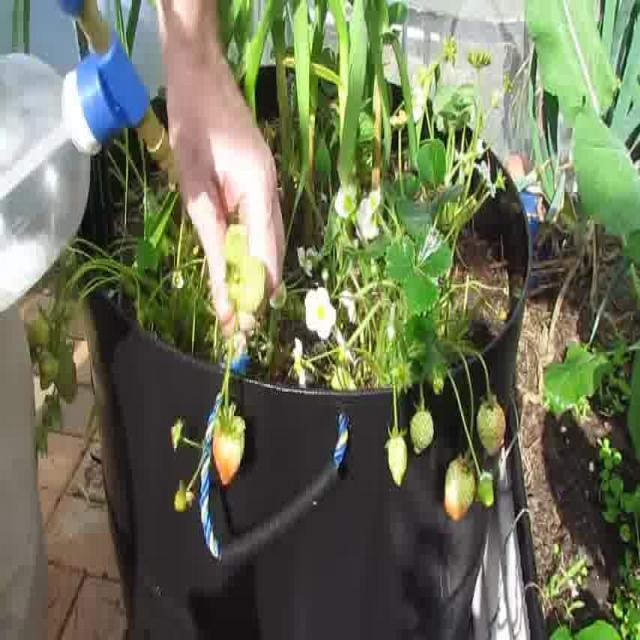Moho gris: (216, 412, 250, 488)
